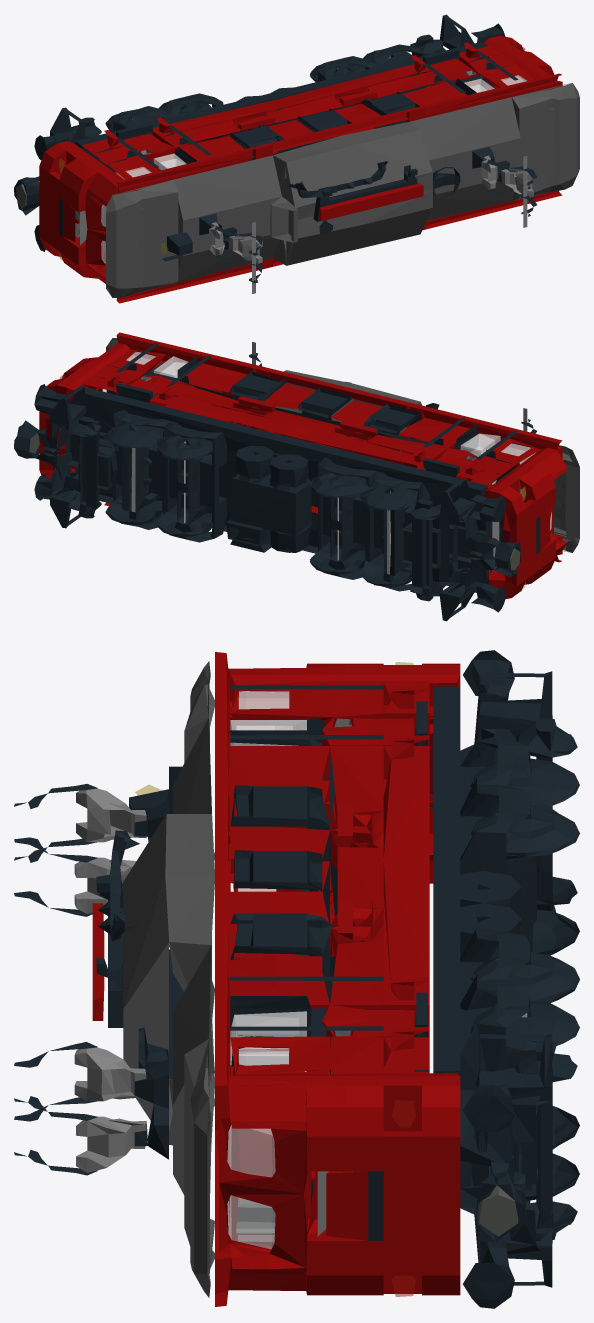
Rendered from german-standard-electric-locomotive.glb.
3 renders of one model, top to bottom at view 1: azimuth 30°, elevation 25°; view 2: azimuth 150°, elevation 25°; view 3: azimuth 270°, elevation 25°, orthographic. The views are drawn at different scales.
Bounding box in the file's own units: 232 × 57.93 × 118.
